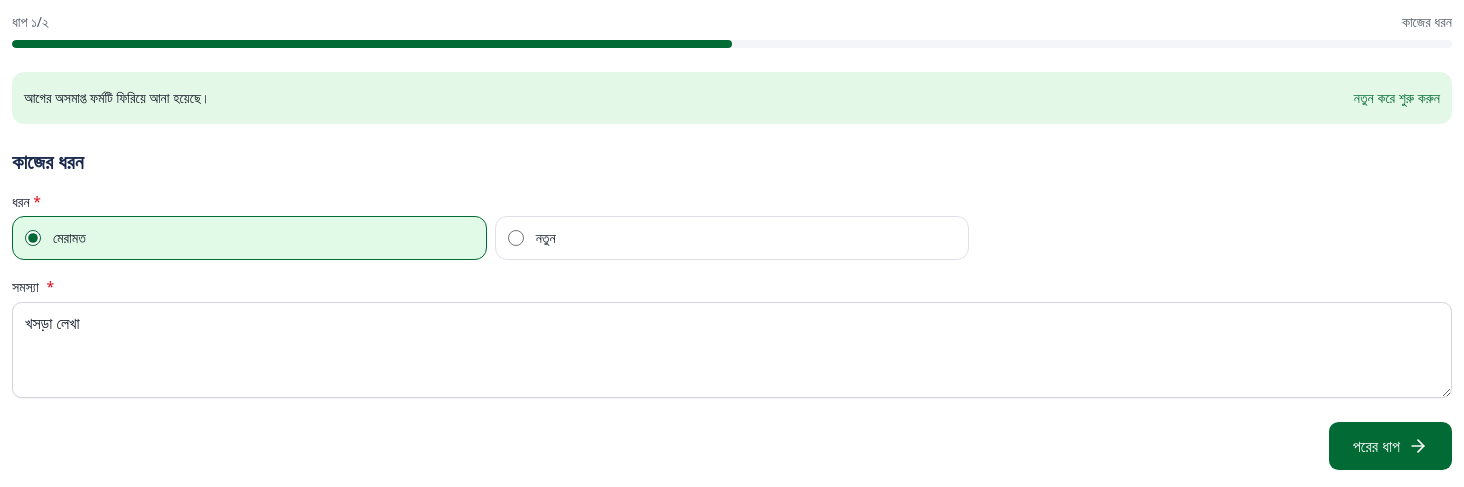
Test: DynamicForm › restores a draft from sessionStorage and can start over
expect the text "আগের অসমাপ্ত ফর্মটি ফিরিয়ে আনা হয়েছে।" is shown: met, box [24,88,210,107]
expect the text box labelled "সমস্যা *" holds "খসড়া লেখা": met, box [12,302,1452,398]
Click the button "নতুন করে শুরু করুন": (1397,98) [1354,80,1440,116]
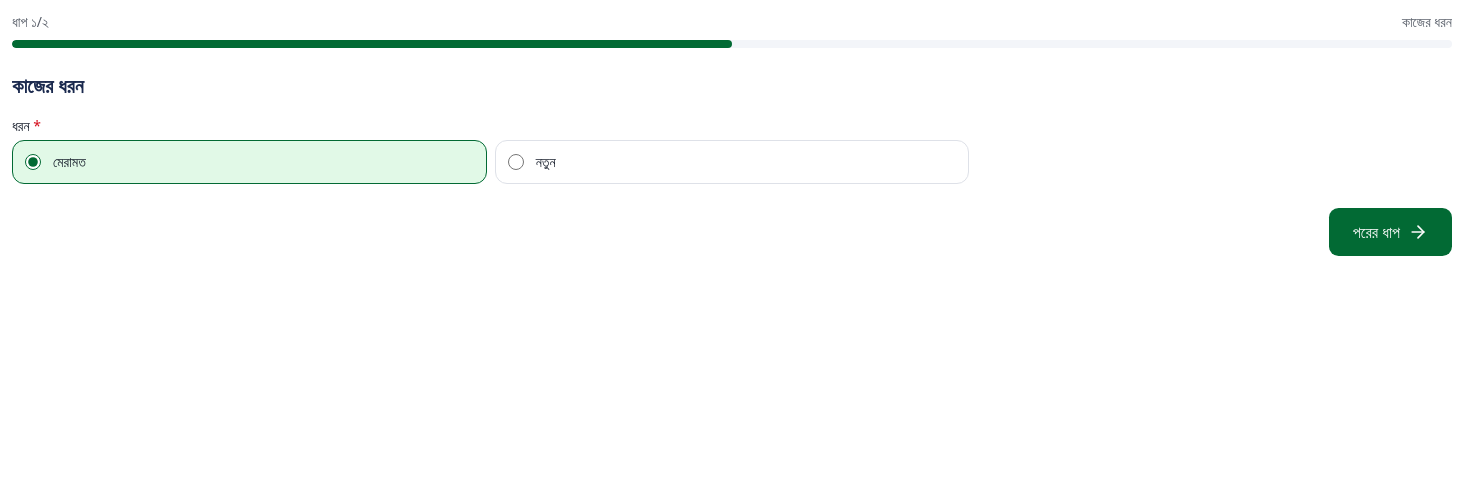
expect the label labelled "সমস্যা" is gone: met
